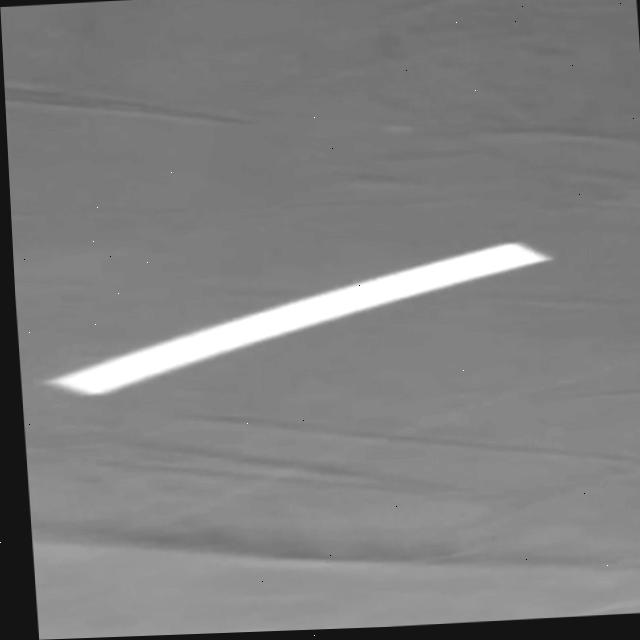center: (45, 243, 549, 393)
